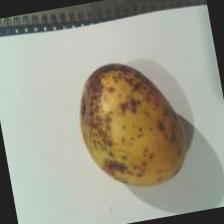Mango Overripe: (71, 48, 193, 196)
